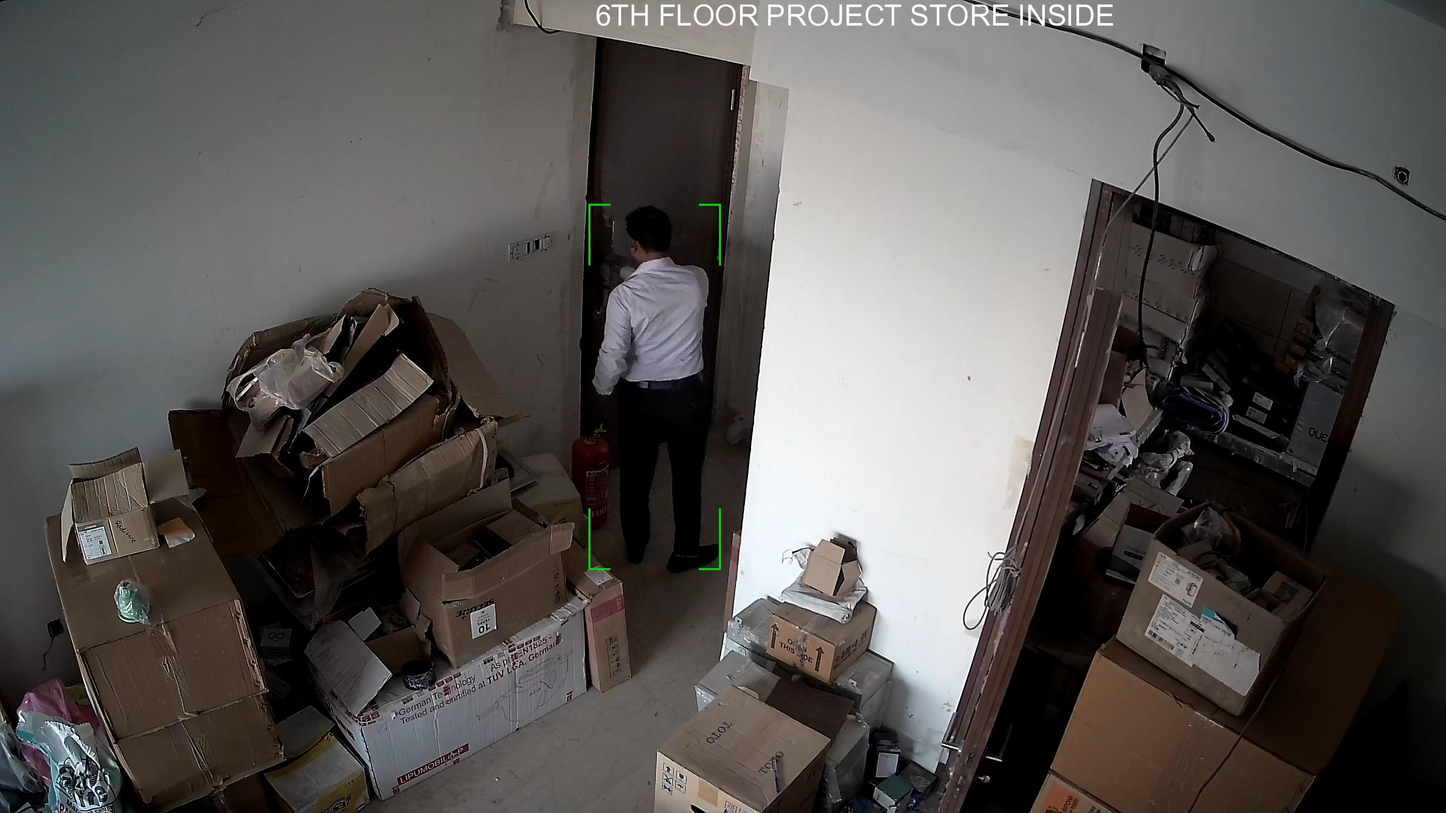Door-Close: (575, 33, 761, 489)
